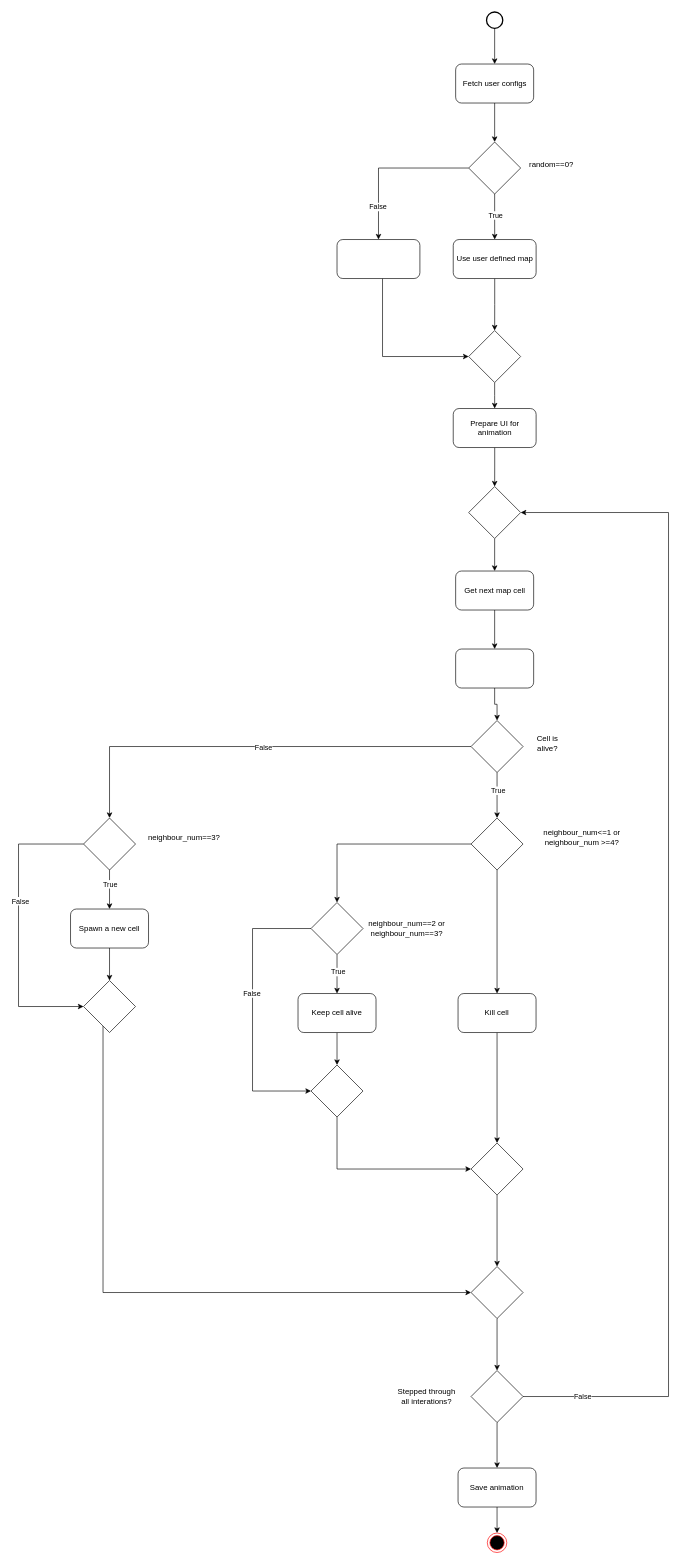
The diagram is 685 pixels wide and 1564 high, and some of its shapes have lost their labels. The box of each missing label's shape, as (x1, y1, x2, y2) in pixels:
Check cell neighbours: (455, 648, 534, 688)
Generate random map: (336, 239, 420, 279)
